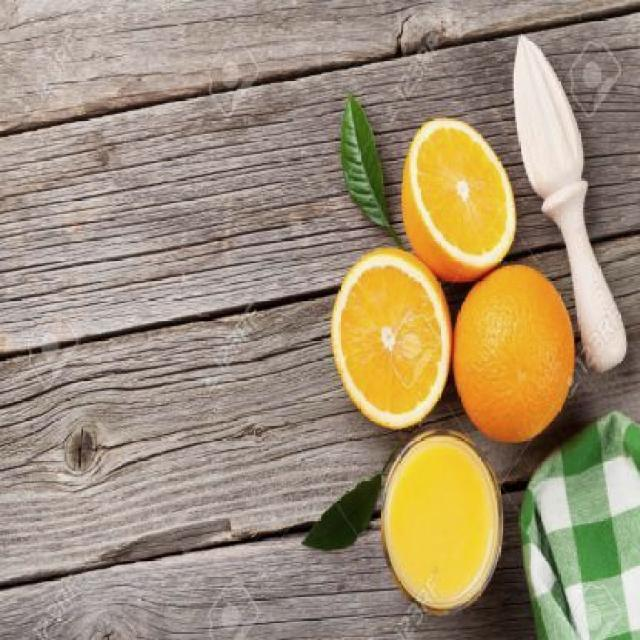Jeruk Sudah Matang: (452, 260, 576, 446)
